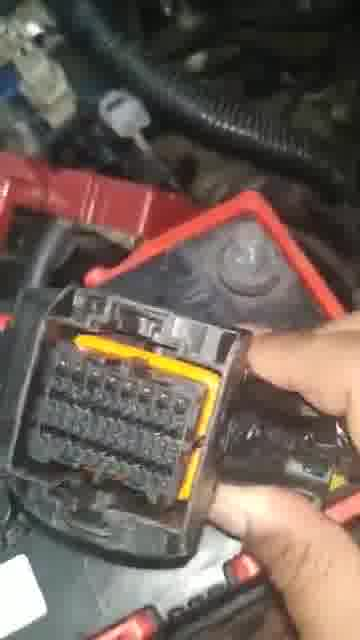connector: (7, 283, 248, 568)
